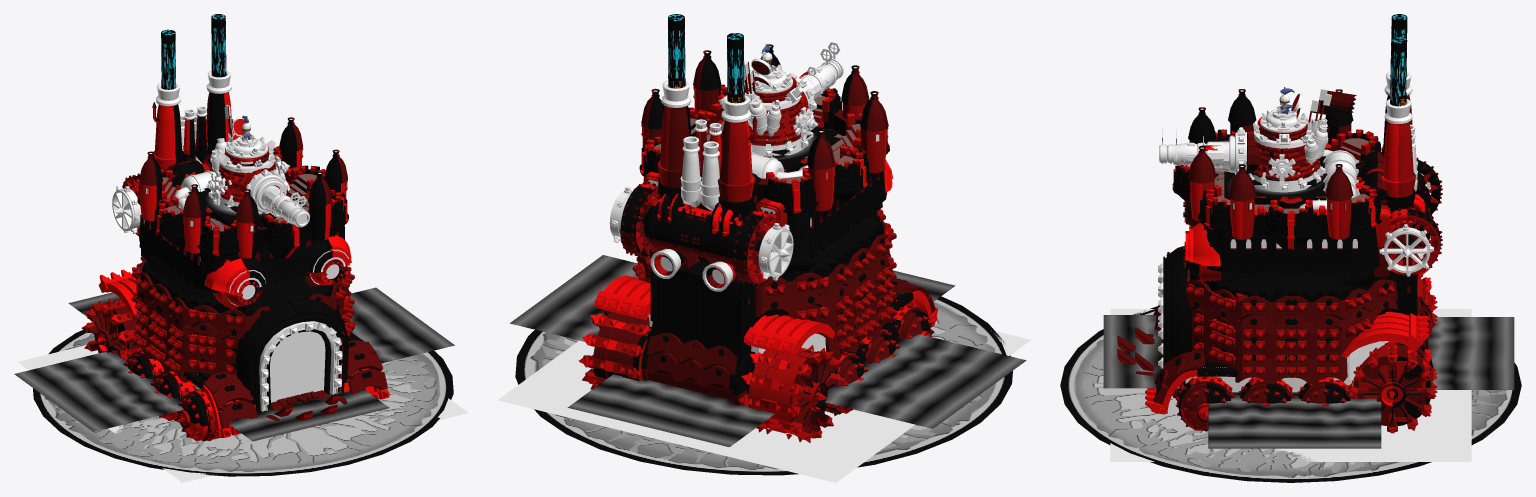
The model's file is SM_Fort_Tier3_01.glb.
3 views of the same model, side by side, from view 1: azimuth 30°, elevation 25°; view 2: azimuth 150°, elevation 25°; view 3: azimuth 270°, elevation 25° (orthographic). The views are drawn at different scales.
Visible parts, largest first — view 1: Cube.202, fake_Crater, Cube.205, VFX_SuctionEffect (3), Upgrade_Armor_1, VARIANT_Upgarde_Armor_0, Engine, VFX_SuctionEffect (1), Wanderburg_tf_TopCannonTurret_T3_002, VARIANT_Upgrade_Armor_2.006, VFX_SuctionEffect, Wanderburg_Models_tf_Wheel_T3_001.001 (+14 smaller); view 2: Cube.202, Cube.205, VFX_Slow, Engine, fake_Crater, VFX_SuctionEffect (3), VFX_SuctionEffect (2), Wanderburg_Models_tf_Wheel_T3_001.001, VARIANT_Upgrade_Speed_1, Wanderburg_tf_TopCannonTurret_T3_002, VFX_SuctionEffect (1), VARIANT_Upgarde_Armor_0 (+15 smaller); view 3: Cube.202, Cube.205, fake_Crater, VFX_SuctionEffect (1), VFX_Slow, VFX_SuctionEffect (2), Wanderburg_tf_TopCannonTurret_T3_002, Wanderburg_Models_tf_Wheel_T3_001, VARIANT_Upgarde_Armor_0, Engine, VARIANT_Upgrade_Armor_2.006, Upgrade_Armor_1 (+15 smaller).
Boxes of the visible parts, bbox=[...] form: Cube.202: bbox=[98, 248, 389, 437]; fake_Crater: bbox=[36, 331, 450, 475]; Cube.205: bbox=[139, 117, 347, 309]; VFX_SuctionEffect (3): bbox=[14, 351, 183, 431]; Upgrade_Armor_1: bbox=[204, 235, 351, 413]; VARIANT_Upgarde_Armor_0: bbox=[130, 256, 355, 373]; Engine: bbox=[152, 91, 232, 189]; VFX_SuctionEffect (1): bbox=[350, 287, 454, 363]; Wanderburg_tf_TopCannonTurret_T3_002: bbox=[208, 118, 288, 214]; VARIANT_Upgrade_Armor_2.006: bbox=[137, 146, 348, 258]; VFX_SuctionEffect: bbox=[229, 388, 389, 441]; Wanderburg_Models_tf_Wheel_T3_001.001: bbox=[81, 298, 141, 359]; Cube.202: bbox=[594, 209, 937, 405]; Cube.205: bbox=[641, 44, 888, 269]; VFX_Slow: bbox=[498, 330, 1030, 482]; Engine: bbox=[644, 104, 760, 288]; fake_Crater: bbox=[519, 298, 1008, 473]; VFX_SuctionEffect (3): bbox=[818, 334, 1026, 428]; VFX_SuctionEffect (2): bbox=[567, 374, 774, 447]; Wanderburg_Models_tf_Wheel_T3_001.001: bbox=[738, 345, 845, 442]; VARIANT_Upgrade_Speed_1: bbox=[650, 80, 751, 291]; Wanderburg_tf_TopCannonTurret_T3_002: bbox=[744, 58, 816, 156]; VFX_SuctionEffect (1): bbox=[509, 255, 638, 341]; VARIANT_Upgarde_Armor_0: bbox=[632, 209, 897, 353]; Cube.202: bbox=[1117, 248, 1433, 414]; Cube.205: bbox=[1179, 89, 1390, 281]; fake_Crater: bbox=[1064, 309, 1517, 481]; VFX_SuctionEffect (1): bbox=[1208, 392, 1381, 448]; VFX_Slow: bbox=[1110, 309, 1471, 461]; VFX_SuctionEffect (2): bbox=[1427, 317, 1514, 389]; Wanderburg_tf_TopCannonTurret_T3_002: bbox=[1229, 93, 1328, 192]; Wanderburg_Models_tf_Wheel_T3_001: bbox=[1347, 341, 1437, 433]; VARIANT_Upgarde_Armor_0: bbox=[1186, 283, 1394, 376]; Engine: bbox=[1355, 94, 1430, 263]; VARIANT_Upgrade_Armor_2.006: bbox=[1172, 129, 1381, 249]; Upgrade_Armor_1: bbox=[1163, 202, 1220, 368].
Bounding box in the file's own units: 59.38 × 51.66 × 58.89.
37 materials, 21 textured.
